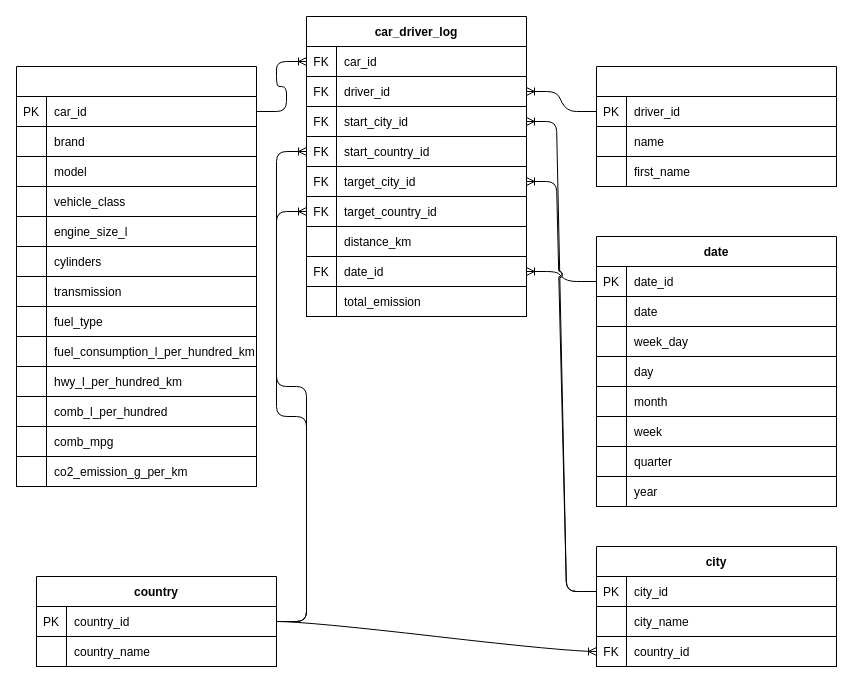
Some shapes in this 853 by 683 pixel diagram are drawn without their labels. The box of each missing label's shape, as (x1, y1, x2, y2) in pixels:
cars: (16, 66, 256, 486)
drivers: (596, 66, 836, 186)
